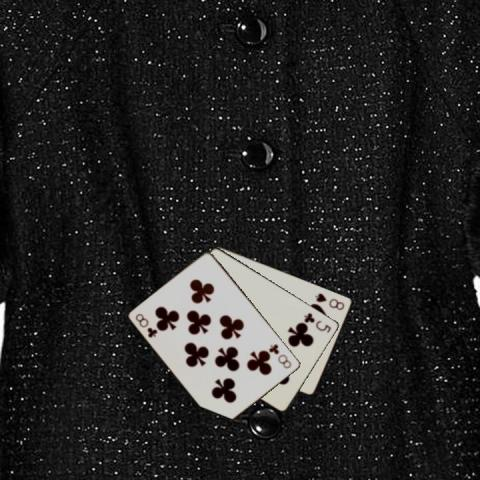5c: (301, 310, 333, 335)
8c: (267, 341, 293, 370), (133, 311, 159, 339)
8s: (312, 290, 346, 311)
